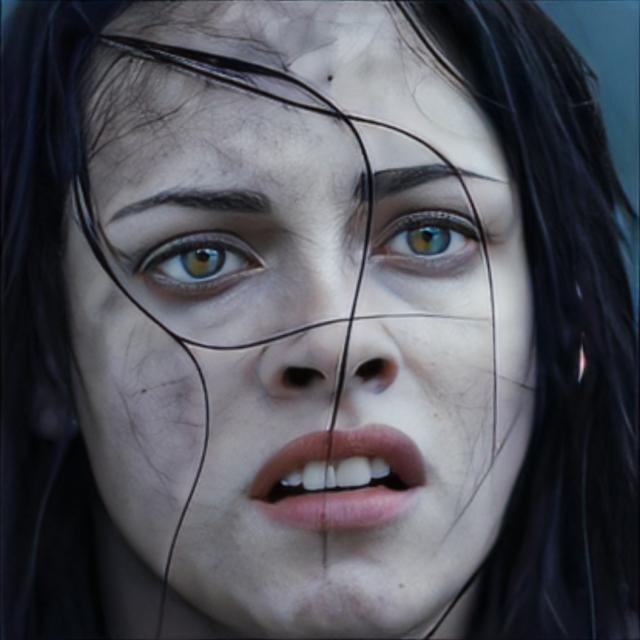disgust: (57, 0, 543, 640)
